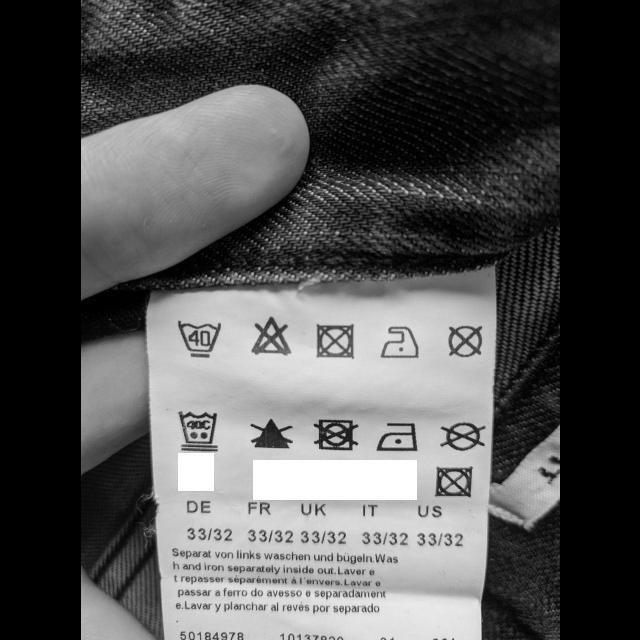40C: (174, 316, 223, 360), (175, 408, 219, 452)
DN_bleach: (248, 315, 292, 357), (248, 416, 292, 450)
DN_dry_clean: (438, 420, 486, 452), (446, 324, 482, 358)
DN_tumble_dry: (312, 416, 360, 452), (313, 321, 355, 361), (432, 463, 473, 499)
iron_low: (374, 418, 420, 456), (380, 322, 420, 362)
